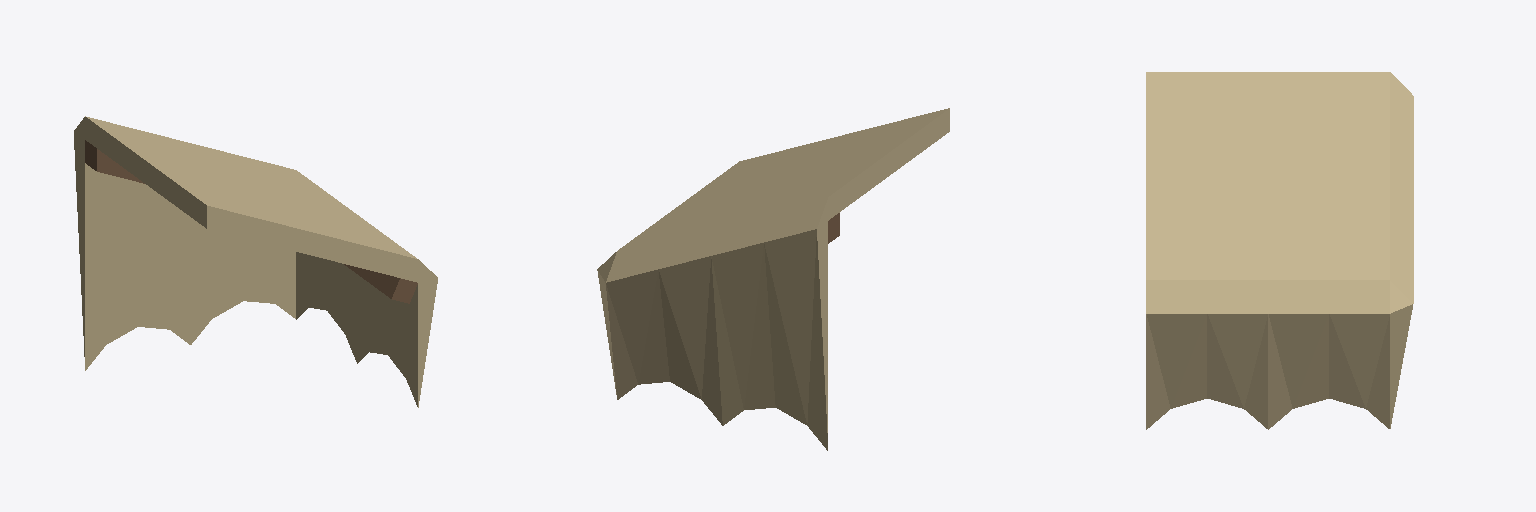
The model's file is Canopy_Ramp_Corner.obj.
3 renders of one model, left to right at view 1: azimuth 30°, elevation 25°; view 2: azimuth 150°, elevation 25°; view 3: azimuth 270°, elevation 25°, orthographic.
Parts seen in each view (by area): view 1: object2, object1; view 2: object2; view 3: object2.
Boxes of the visible parts, <box> form: object2: <box>74,116,437,407</box>; object1: <box>85,140,417,303</box>; object2: <box>597,108,949,450</box>; object2: <box>1146,72,1413,429</box>.
Bounding box in the file's own units: 1.15 × 1.21 × 1.15.